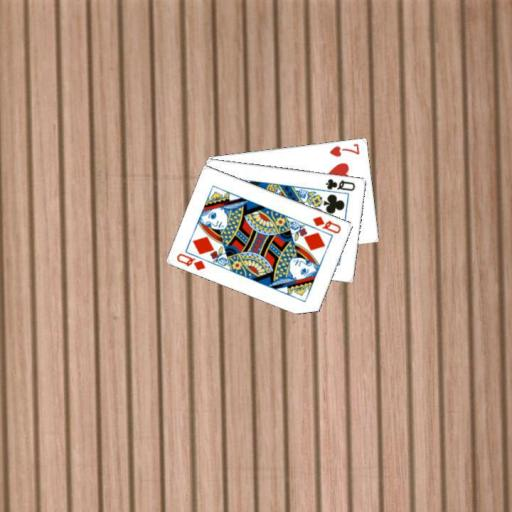7H: (327, 140, 362, 158)
QC: (323, 175, 357, 192)
QD: (309, 213, 343, 235), (173, 250, 207, 272)
